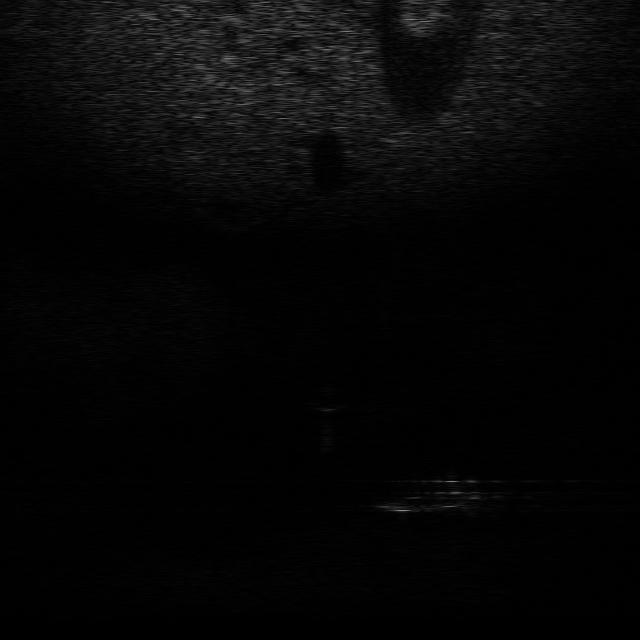ball: (302, 386, 350, 416)
tyre: (300, 383, 351, 416)
